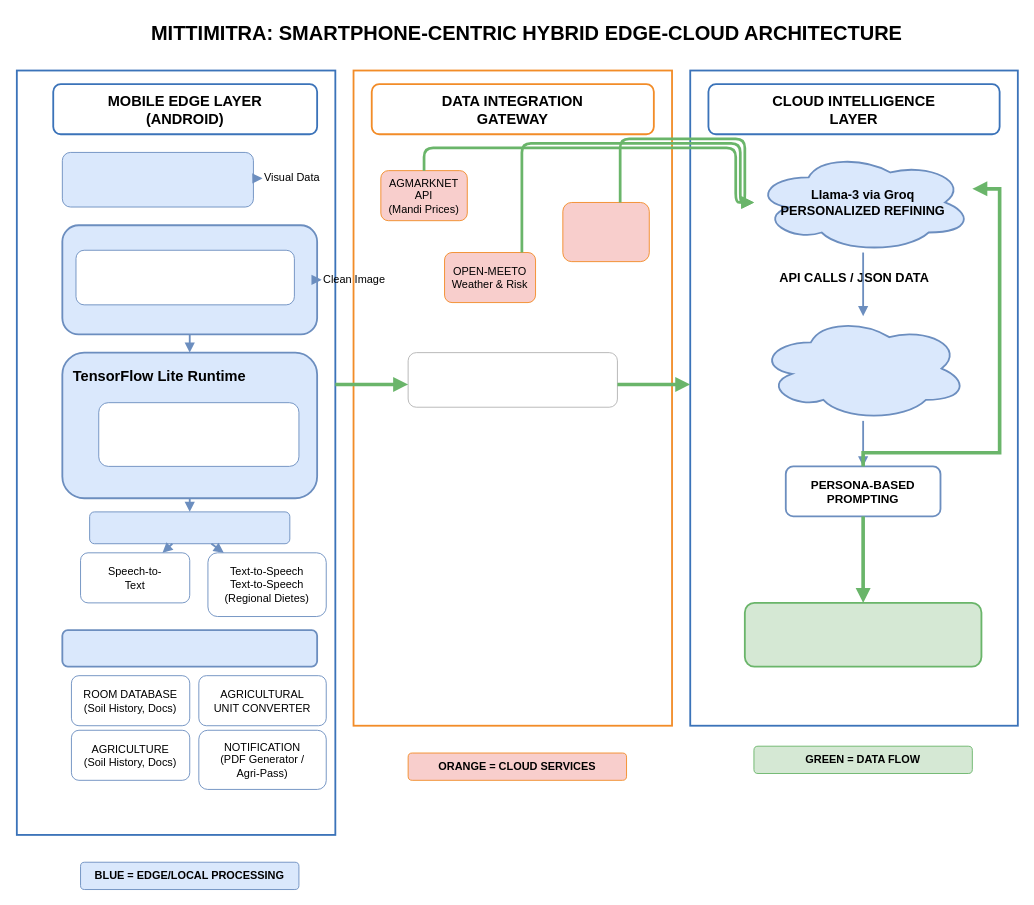
Some shapes in this 1034 by 905 pixel diagram are drawn without their labels. The centre of each missing label's shape, as x and y in pixels:
"AI ADVISORY / PRICES / ALERTS (Speech-to-Speech)" goes at [862,634].
"Camera Module (CSI/USB)" goes at [157,179].
"INTERNET (4G/WIFI)" goes at [512,379].
"ISRIC SOILGRIDS API (Geospatial Data)" goes at [605,232].
"Llama-3 via Groq (Reasoning Engine)" goes at [862,368].
"LOCAL DATA & UTILITIES" goes at [189,648].
"MobileNetV2 CNN (Soil) (Soil Classifier)" goes at [198,434].
"Shadow Detection (OpenCV) Lux/Light Sensor Check" goes at [184,277].
"Voice Input/Output" goes at [189,527].
